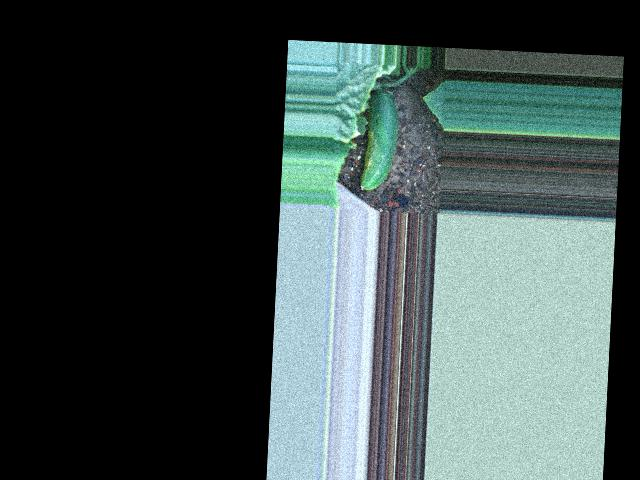cucumber: (359, 90, 399, 192)
